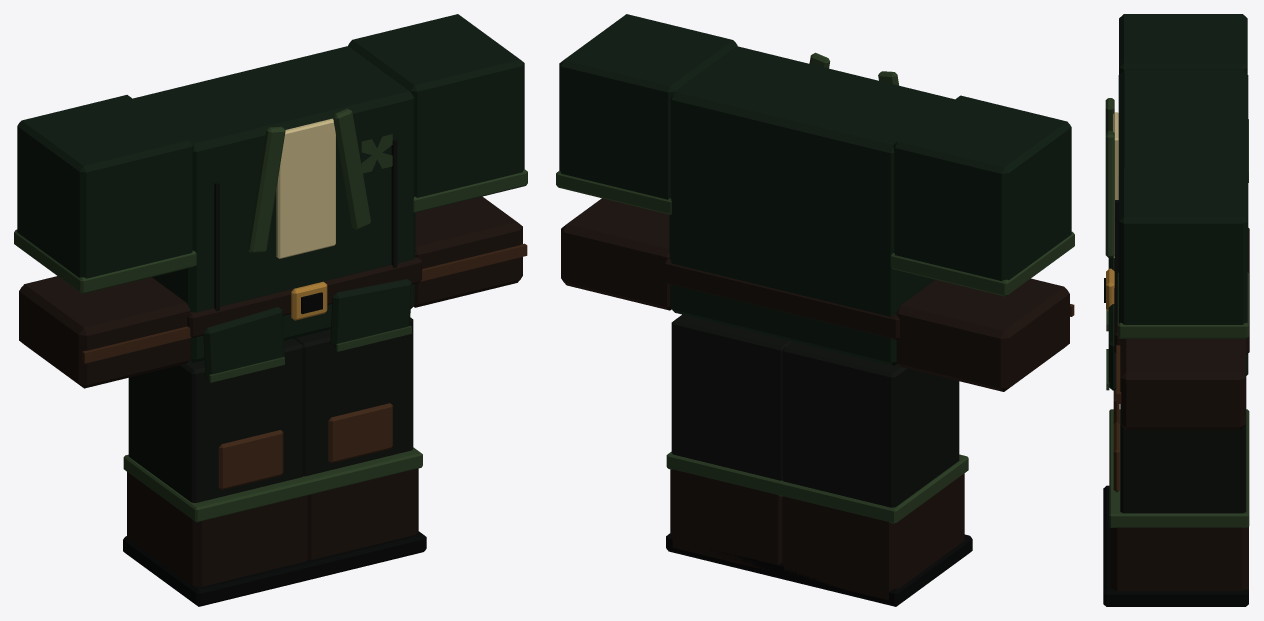
File: outfit-forest-initiate-v1.fbx
3 renders of one model, left to right at view 1: azimuth 30°, elevation 25°; view 2: azimuth 150°, elevation 25°; view 3: azimuth 270°, elevation 25°, orthographic. The views are drawn at different scales.
Parts seen in each view (by area): view 1: Torso.001, Left Arm.001, Left Leg.001, Right Arm.001, Right Leg.001; view 2: Torso.001, Left Arm.001, Left Leg.001, Right Arm.001, Right Leg.001; view 3: Right Arm.001, Right Leg.001, Torso.001, Left Arm.001, Left Leg.001.
Part boxes in pixels (box(x1,y1,x2,y2)): Torso.001: box(133, 46, 422, 382); Left Arm.001: box(14, 95, 196, 388); Left Leg.001: box(123, 338, 315, 606); Right Arm.001: box(348, 14, 527, 307); Right Leg.001: box(293, 317, 426, 579); Torso.001: box(664, 46, 954, 365); Left Arm.001: box(890, 95, 1074, 391); Left Leg.001: box(777, 341, 972, 606); Right Arm.001: box(556, 14, 737, 310); Right Leg.001: box(666, 314, 792, 579); Right Arm.001: box(1116, 168, 1248, 429); Right Leg.001: box(1103, 421, 1249, 606); Torso.001: box(1104, 70, 1249, 390); Left Arm.001: box(1119, 14, 1248, 182); Left Leg.001: box(1103, 389, 1249, 538).
Bounding box in the file's own units: 409 × 401 × 121.
1 material, 1 textured.
